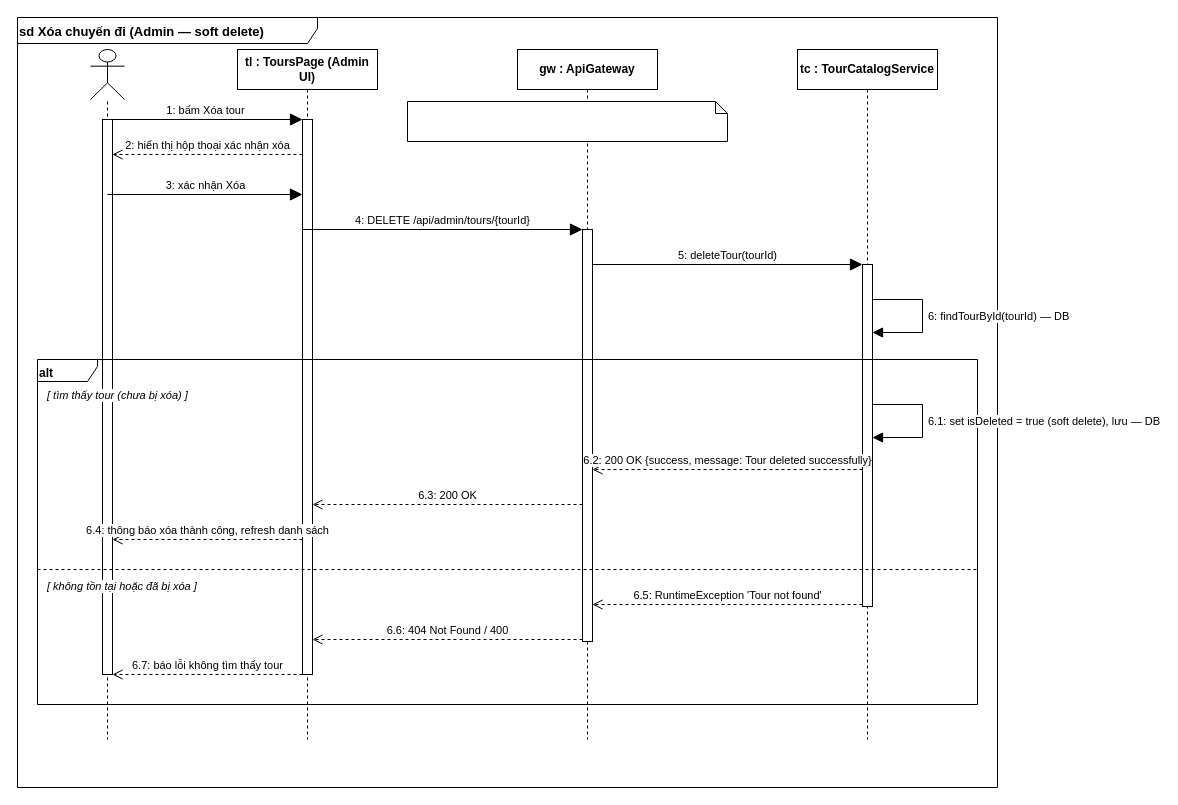
Some shapes in this 1178 by 805 pixel diagram are drawn without their labels. The centre of each missing label's shape, as x and y in pixels:
"Admin" belongs at pixel 107 74.
"findTourById lọc isDeleted=false → ném 404 nếu không tồn tại hoặc đã bị xóa" belongs at pixel 567 121.
